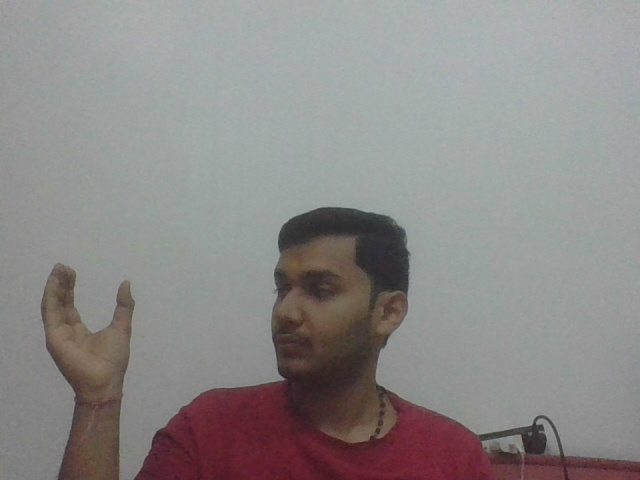U: (38, 260, 142, 389)
